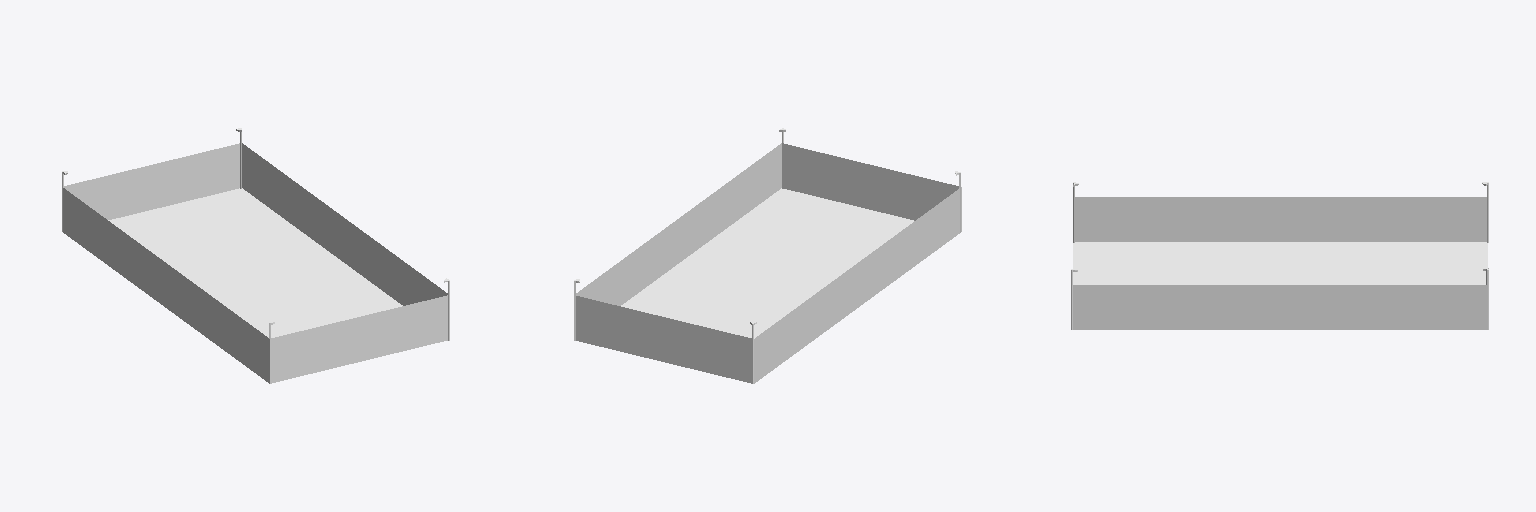
Rendered from SmallField.obj.
3 renders of one model, left to right at view 1: azimuth 30°, elevation 25°; view 2: azimuth 150°, elevation 25°; view 3: azimuth 270°, elevation 25°, orthographic.
Parts seen in each view (by area): view 1: SmallField; view 2: SmallField; view 3: SmallField.
Boxes of the visible parts, x1,y1,x2,y2 form: SmallField: [63, 143, 447, 383]; SmallField: [576, 143, 961, 383]; SmallField: [1073, 197, 1487, 329].
Size of the model in its own units: 25.07 by 8.01 by 50.29.